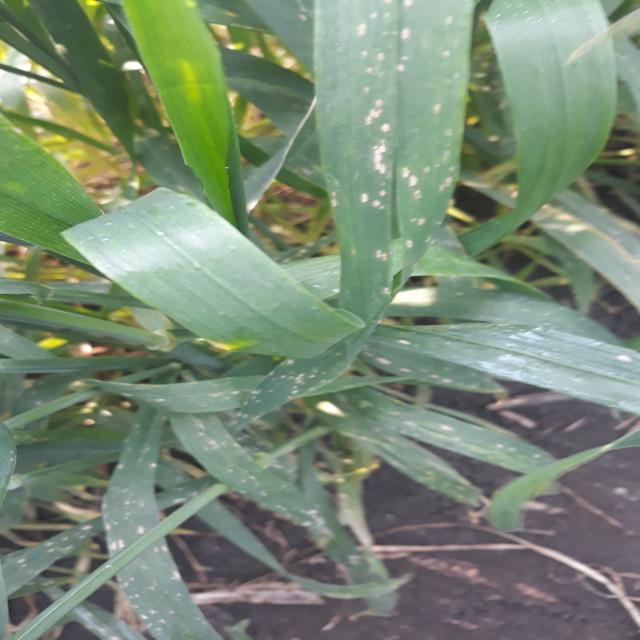powder_mildew: (268, 1, 467, 328), (106, 338, 628, 462), (207, 436, 408, 616), (75, 454, 222, 640), (0, 485, 100, 640), (392, 444, 494, 512)
